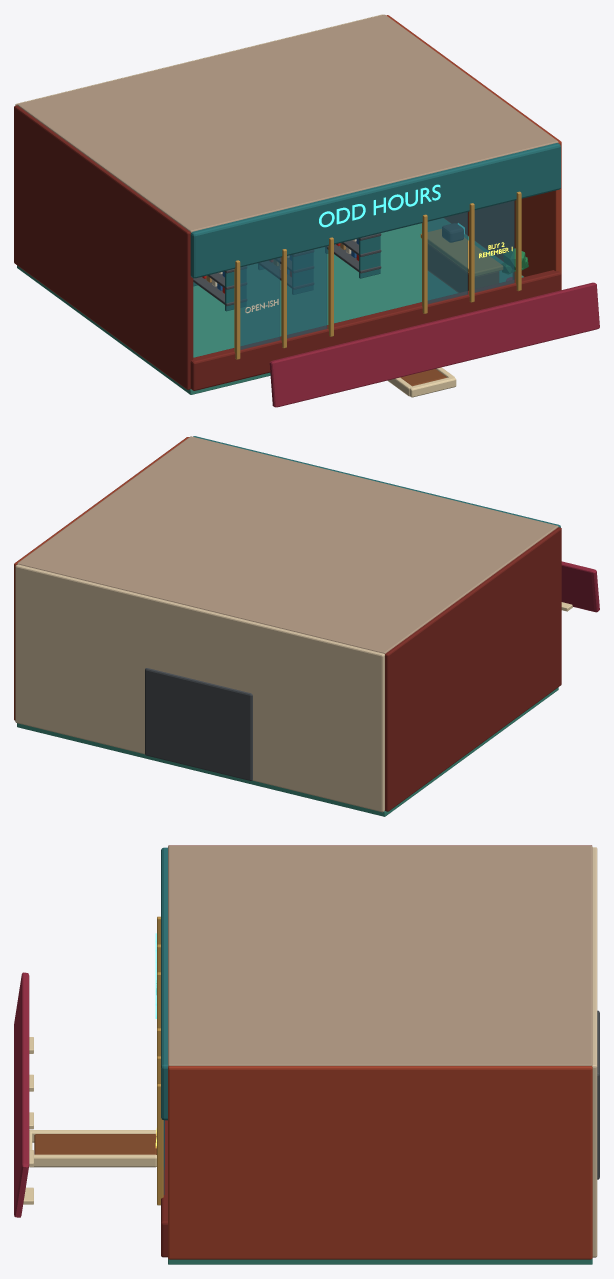
File: neighborhood_convenience_store_a.glb
The picture shows the model from 3 angles, top to bottom: view 1: azimuth 30°, elevation 25°; view 2: azimuth 150°, elevation 25°; view 3: azimuth 270°, elevation 25°; orthographic projection. The views are drawn at different scales.
Parts seen in each view (by area): view 1: StoreCeiling, StoreLeftWall, StoreFacadeHeader, Awning, StoreFloor, StoreFacadeBase, StoreRightWall, StoreGlass.002, StoreGlass.001, StoreGlass, StoreGlass.003, Counter (+12 smaller); view 2: StoreCeiling, StoreBackWall, StoreLeftWall, Case.001, StoreFloor, Awning, StoreRightWall, StoreFacadeHeader; view 3: StoreCeiling, StoreRightWall, Awning, Door, StoreFloor, StoreBackWall, StoreFacadeHeader, FrameSide.005, StoreFacadeBase, StoreMullion.005.
Part boxes in pixels (box(x1,y1,x2,y2)): StoreCeiling: box(17, 14, 558, 232); StoreLeftWall: box(14, 105, 193, 389); StoreFacadeHeader: box(190, 143, 560, 278); Awning: box(269, 282, 599, 407); StoreFloor: box(17, 218, 523, 394); StoreFacadeBase: box(190, 270, 561, 390); StoreRightWall: box(386, 15, 561, 289); StoreGlass.002: box(427, 212, 467, 303); StoreGlass.001: box(287, 246, 327, 338); StoreGlass: box(240, 258, 280, 349); StoreGlass.003: box(474, 201, 514, 292); Counter: box(428, 244, 498, 292); StoreCeiling: box(17, 436, 558, 653); StoreBackWall: box(15, 564, 384, 812); StoreLeftWall: box(385, 527, 561, 811); Case.001: box(145, 668, 252, 780); StoreFloor: box(17, 687, 558, 816); Awning: box(561, 561, 599, 612); StoreRightWall: box(14, 437, 189, 720); StoreFacadeHeader: box(193, 436, 560, 527); StoreCeiling: box(168, 845, 592, 1066); StoreRightWall: box(168, 1066, 592, 1259); Awning: box(14, 972, 29, 1217); Door: box(34, 1134, 156, 1154); StoreFloor: box(168, 1258, 592, 1264); StoreBackWall: box(592, 847, 597, 1257); StoreFacadeHeader: box(161, 847, 167, 1120); FrameSide.005: box(29, 1154, 156, 1167); StoreFacadeBase: box(161, 1120, 167, 1257); StoreMullion.005: box(157, 1084, 163, 1205).
Size of what is drawn, in the model's own units: 11.2 by 4.74 by 12.42.
